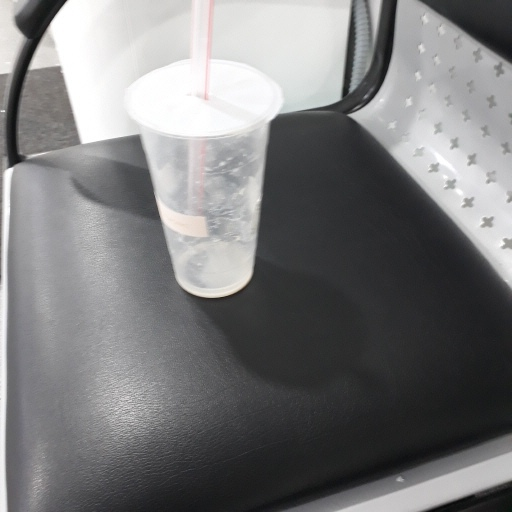Plastic_2: (130, 1, 289, 298)
